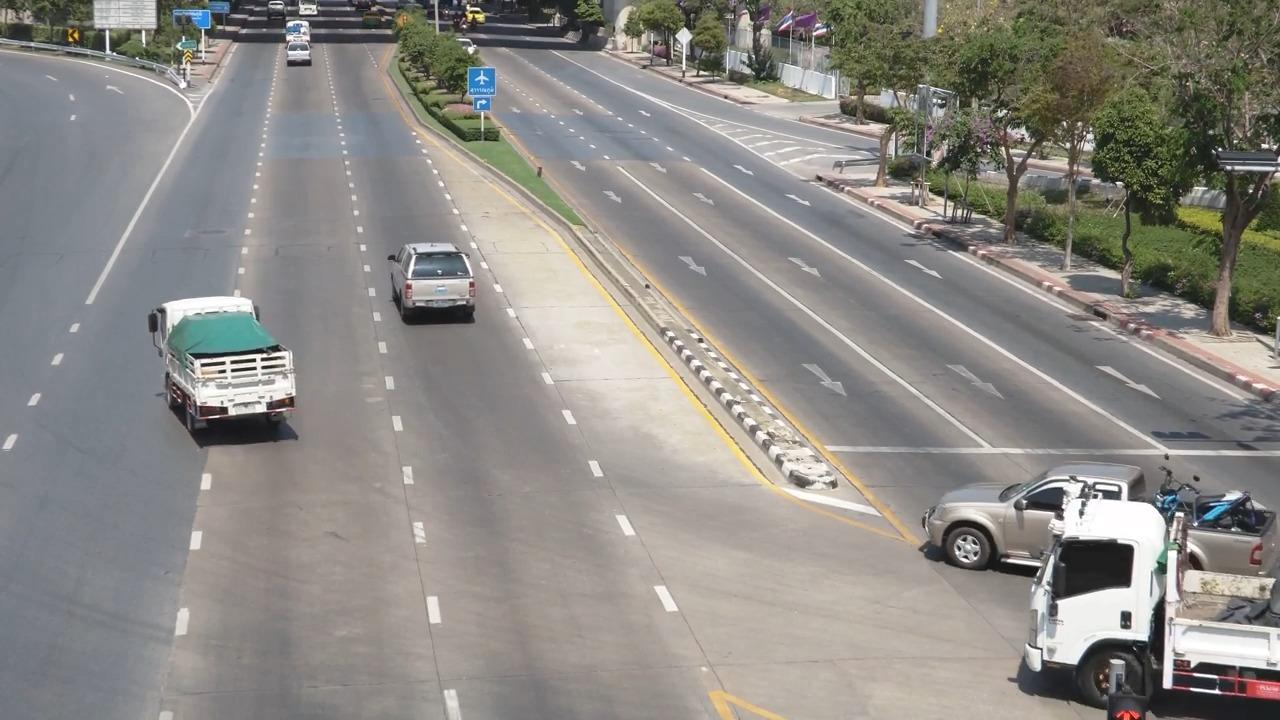CAR: (1020, 499, 1280, 720), (924, 456, 1280, 568), (147, 281, 318, 440), (382, 232, 490, 326), (277, 40, 323, 75), (282, 18, 321, 54)
